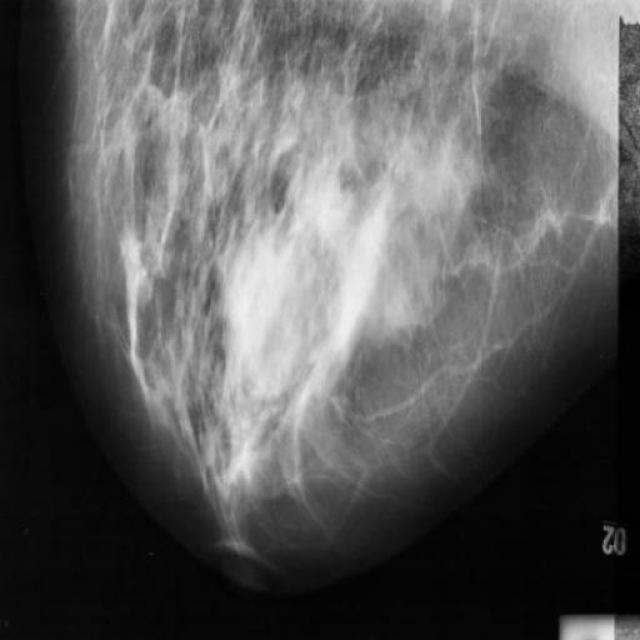cancer: (221, 414, 285, 504)
